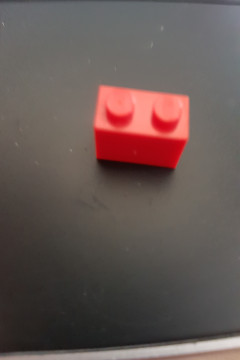1x2 red: (92, 82, 190, 173)
